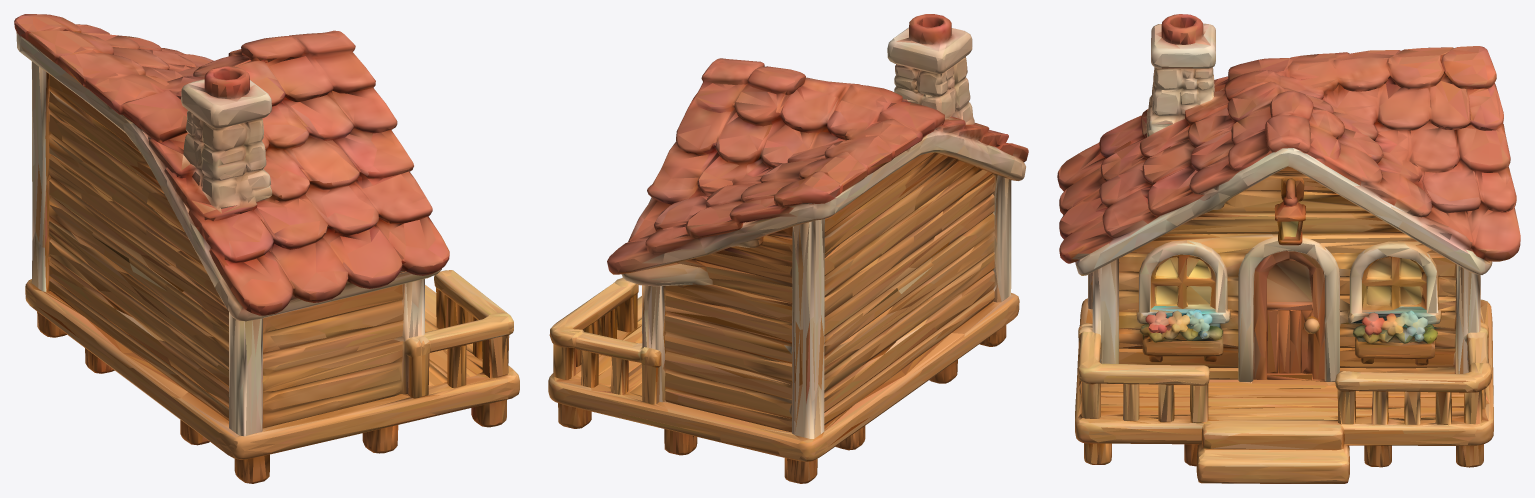
Rendered from F04-main-cottage.glb.
3 views of the same model, side by side, from view 1: azimuth 30°, elevation 25°; view 2: azimuth 150°, elevation 25°; view 3: azimuth 270°, elevation 25° (orthographic). The views are drawn at different scales.
Visible parts, largest first — view 1: F04-main-cottage; view 2: F04-main-cottage; view 3: F04-main-cottage.
Part boxes in pixels (box(x1,y1,x2,y2)): F04-main-cottage: box(14, 14, 519, 483); F04-main-cottage: box(548, 14, 1028, 483); F04-main-cottage: box(1057, 14, 1520, 483).
Size of the model in its own units: 4.59 by 4.8 by 5.9.
1 material, 1 textured.
